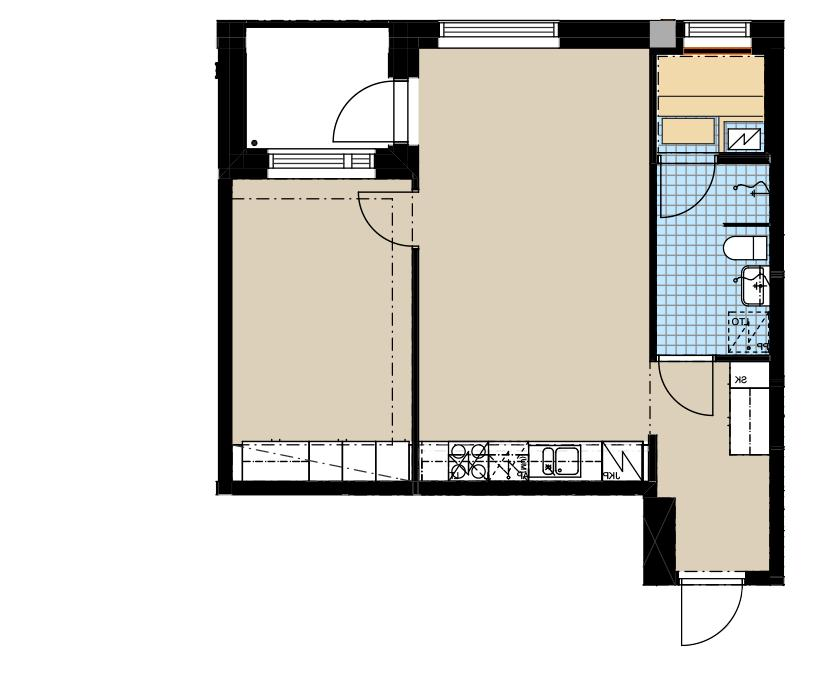door: (675, 566, 746, 652), (331, 78, 412, 147), (355, 185, 425, 252), (654, 152, 718, 225), (654, 353, 718, 418)
window: (434, 14, 567, 54), (263, 145, 380, 185), (674, 16, 757, 58)
